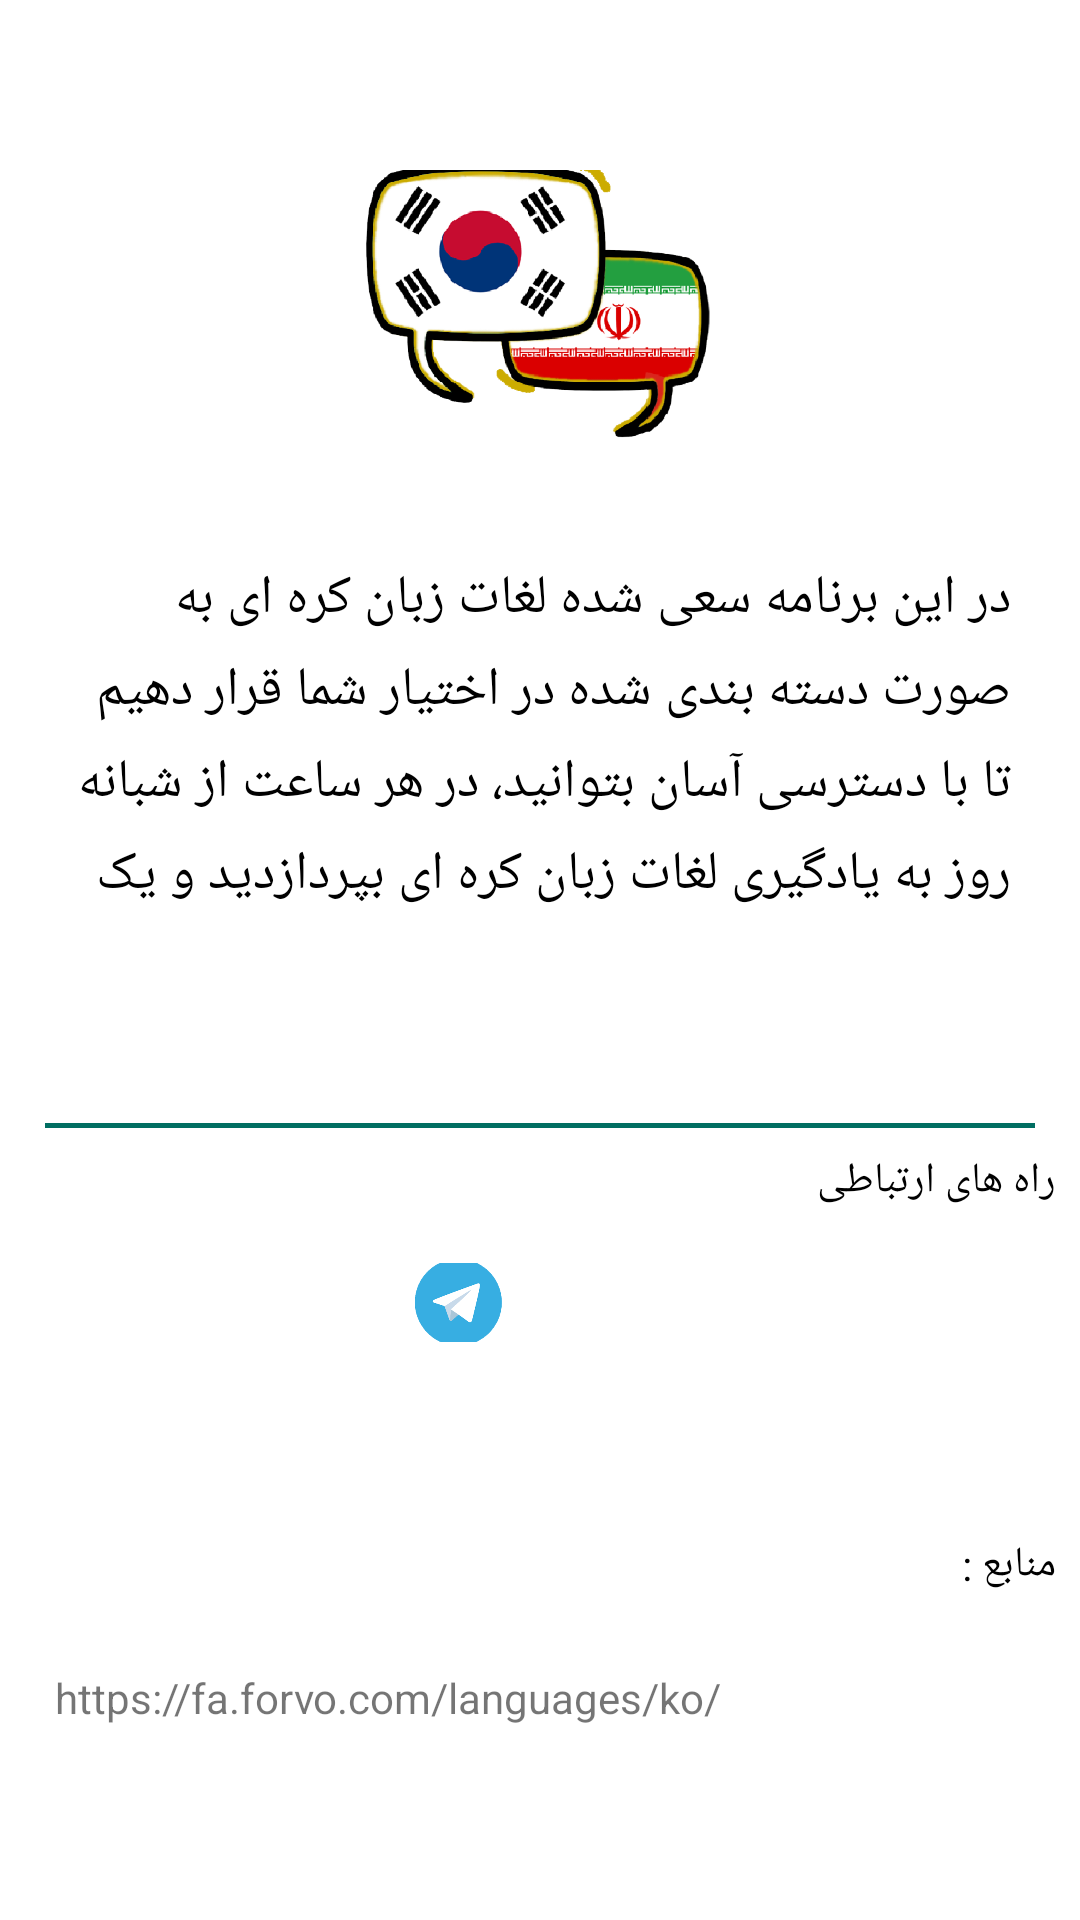

Locate icon controls on the screen. Image size 1080*1920, boxes as (x1, y1, x2, y2).
iconapp: (366, 170, 710, 437)
